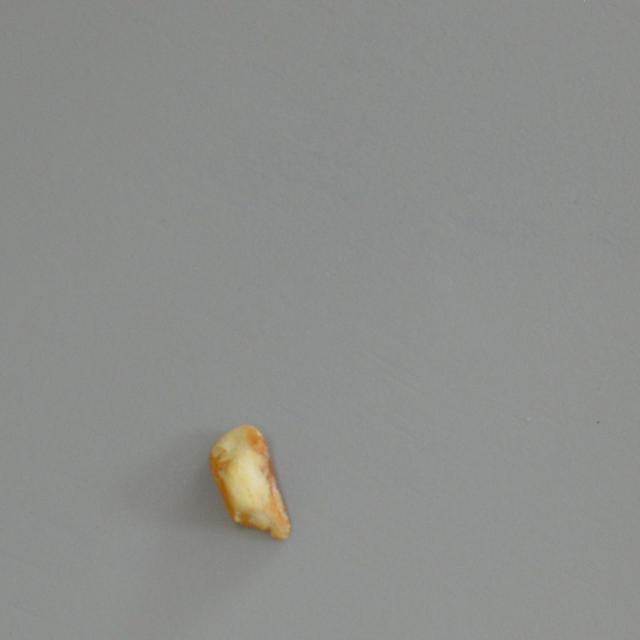dañado: (202, 416, 296, 549)
